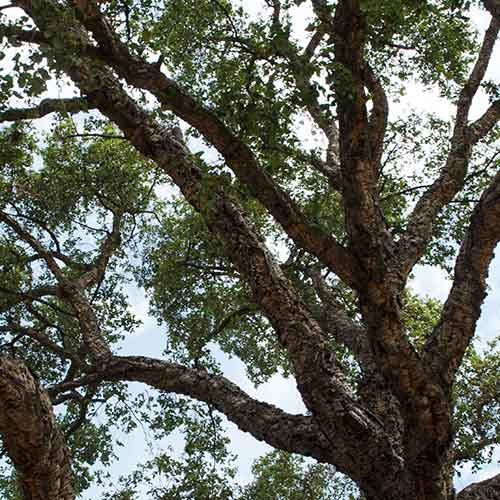tree: (0, 4, 493, 494)
